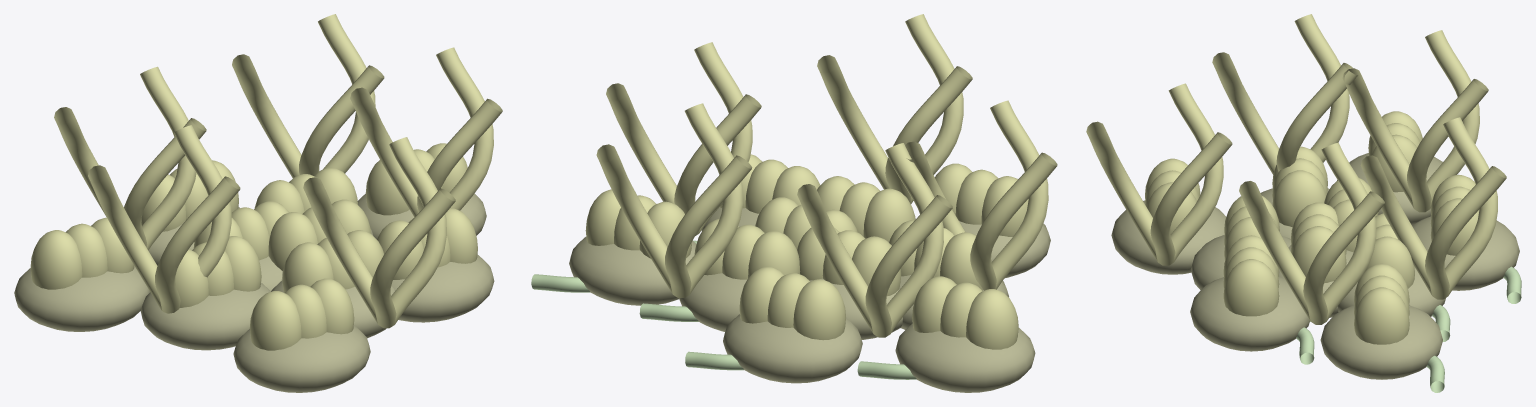
Rendered from bio_acid_mat_04_near.glb.
The picture shows the model from 3 angles, left to right: view 1: azimuth 30°, elevation 25°; view 2: azimuth 150°, elevation 25°; view 3: azimuth 270°, elevation 25°; orthographic projection. The views are drawn at different scales.
Parts seen in each view (by area): view 1: Spiral filament.006, Spiral filament.012, Spiral filament.009, Spiral filament, Spiral filament.003, Microbial cushion.007, Microbial cushion.009, Reaction vesicle.021, Microbial cushion.004, Reaction vesicle.027, Microbial cushion.005, Reaction vesicle.012 (+11 smaller); view 2: Spiral filament.009, Spiral filament.003, Spiral filament.006, Spiral filament.012, Spiral filament, Microbial cushion.006, Microbial cushion.009, Reaction vesicle.027, Reaction vesicle.018, Microbial cushion.008, Reaction vesicle.006, Reaction vesicle.009 (+13 smaller); view 3: Spiral filament.006, Spiral filament, Spiral filament.009, Spiral filament.003, Spiral filament.012, Microbial cushion.008, Microbial cushion.005, Reaction vesicle.024, Reaction vesicle.015, Microbial cushion.007, Reaction vesicle.012, Microbial cushion.006 (+14 smaller).
Part boxes in pixels (bbox=[...]): Spiral filament.006: bbox=[303, 137, 455, 328]; Spiral filament.012: bbox=[88, 125, 240, 313]; Spiral filament.009: bbox=[232, 14, 384, 177]; Spiral filament: bbox=[350, 47, 502, 217]; Spiral filament.003: bbox=[54, 66, 206, 250]; Microbial cushion.007: bbox=[233, 325, 370, 392]; Microbial cushion.009: bbox=[14, 266, 149, 331]; Reaction vesicle.021: bbox=[249, 278, 354, 350]; Microbial cushion.004: bbox=[140, 282, 270, 350]; Reaction vesicle.027: bbox=[30, 217, 134, 289]; Microbial cushion.005: bbox=[391, 254, 494, 322]; Reaction vesicle.012: bbox=[175, 236, 261, 307]; Spiral filament.009: bbox=[596, 103, 752, 297]; Spiral filament.003: bbox=[797, 143, 952, 337]; Spiral filament.006: bbox=[817, 14, 972, 203]; Spiral filament.012: bbox=[905, 100, 1057, 290]; Spiral filament: bbox=[606, 42, 761, 235]; Microbial cushion.006: bbox=[723, 314, 862, 383]; Microbial cushion.009: bbox=[895, 324, 1035, 392]; Reaction vesicle.027: bbox=[912, 276, 1018, 349]; Reaction vesicle.018: bbox=[739, 266, 845, 340]; Microbial cushion.008: bbox=[569, 237, 696, 305]; Reaction vesicle.006: bbox=[817, 176, 915, 242]; Reaction vesicle.009: bbox=[694, 218, 800, 279]; Spiral filament.006: bbox=[1086, 83, 1232, 265]; Spiral filament: bbox=[1239, 142, 1384, 324]; Spiral filament.009: bbox=[1360, 117, 1506, 299]; Spiral filament.003: bbox=[1342, 30, 1488, 212]; Spiral filament.012: bbox=[1212, 14, 1357, 174]; Microbial cushion.008: bbox=[1320, 305, 1442, 379]; Microbial cushion.005: bbox=[1190, 277, 1309, 351]; Reaction vesicle.024: bbox=[1354, 263, 1409, 344]; Reaction vesicle.015: bbox=[1223, 235, 1279, 316]; Microbial cushion.007: bbox=[1111, 200, 1226, 274]; Reaction vesicle.012: bbox=[1272, 146, 1327, 227]; Microbial cushion.006: bbox=[1412, 216, 1519, 290].
Bounding box in the file's own units: 1.83 × 0.7414 × 1.56.
